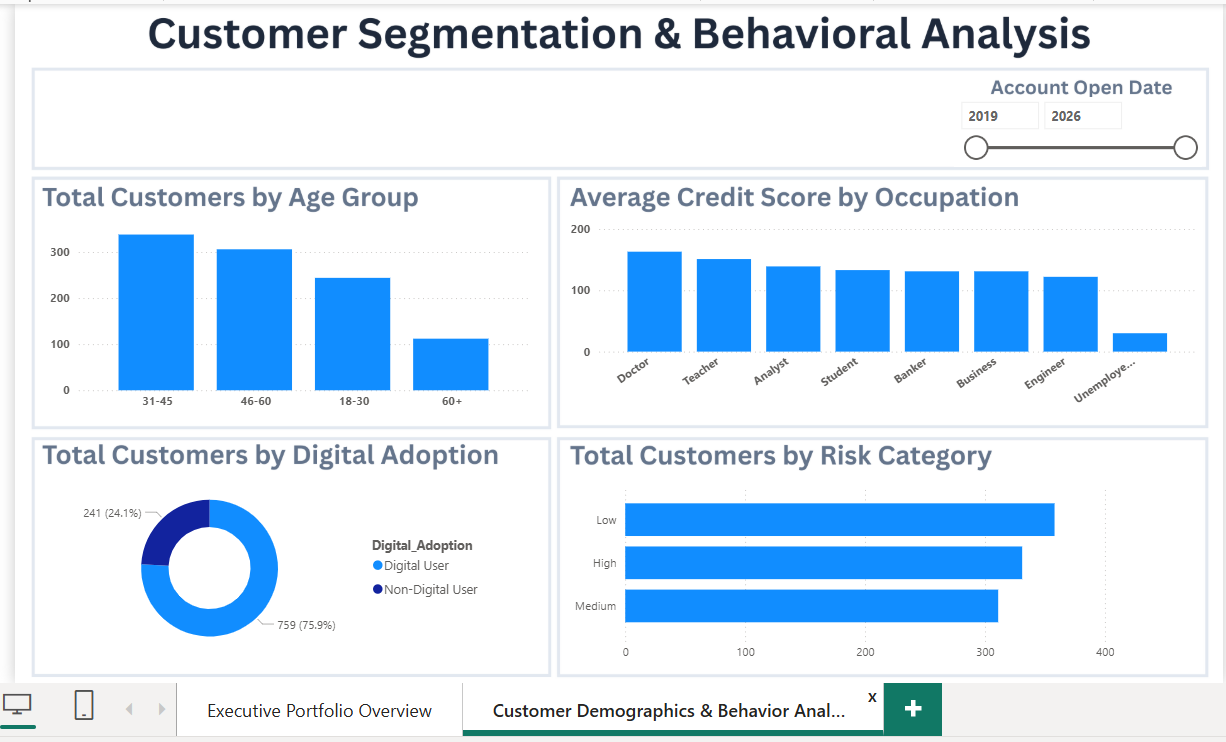

Layout of this report page (visuals, bound fields, positions):
{"tool":"powerbi","page":{"name":"Customer Demographics & Behavior Analytics","canvas":[1280,720],"ordinal":1},"visuals":[{"type":"slicer","fields":{"Values":["banking_data_enriched.Account_Open_Date.Variation.Date Hierarchy.Year"]},"box":[995,98.3,261.7,73.3],"z":0},{"type":"columnChart","fields":{"Y":["banking_data_enriched.Total Customers"],"Category":["banking_data_enriched.Age_Group"]},"box":[31.7,225,520,215],"z":1000},{"type":"columnChart","fields":{"Y":["banking_data_enriched.Total Customers"],"Category":["banking_data_enriched.Occupation"]},"box":[583.3,225,673.3,215],"z":2000},{"type":"donutChart","fields":{"Y":["banking_data_enriched.Total Customers"],"Category":["banking_data_enriched.Digital_Adoption"]},"box":[28.3,498.3,476.7,200],"z":3000},{"type":"clusteredBarChart","fields":{"Category":["banking_data_enriched.Risk_Category"],"Y":["CountNonNull(banking_data_enriched.Customer_Segment)"]},"box":[583.3,498.3,586.7,206.7],"z":4000}]}

Visuals, with their boxes on the page's 1280x720 design canvas (x1, y1, x2, y2). These are canvas units, not pixel positions in the 1226x742 screenshot, which may show the page scaled, cropped or inside an application window:
slicer - banking_data_enriched.Account_Open_Date.Variation.Date Hierarchy.Year: crop(995, 98, 1257, 172)
columnChart - banking_data_enriched.Total Customers x banking_data_enriched.Age_Group: crop(32, 225, 552, 440)
columnChart - banking_data_enriched.Total Customers x banking_data_enriched.Occupation: crop(583, 225, 1257, 440)
donutChart - banking_data_enriched.Total Customers x banking_data_enriched.Digital_Adoption: crop(28, 498, 505, 698)
clusteredBarChart - banking_data_enriched.Risk_Category x CountNonNull(banking_data_enriched.Customer_Segment): crop(583, 498, 1170, 705)
